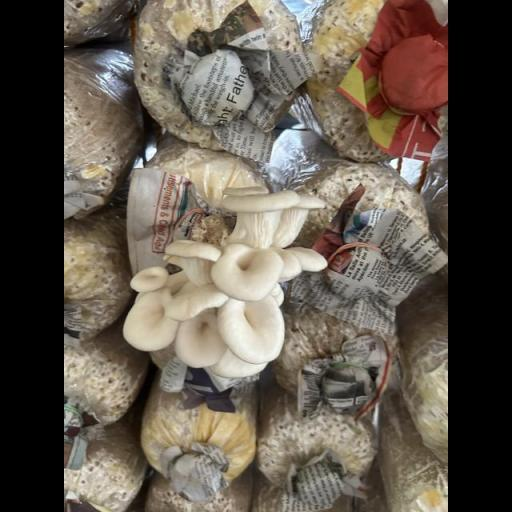White Oyster Mushroom: (113, 178, 340, 399)
